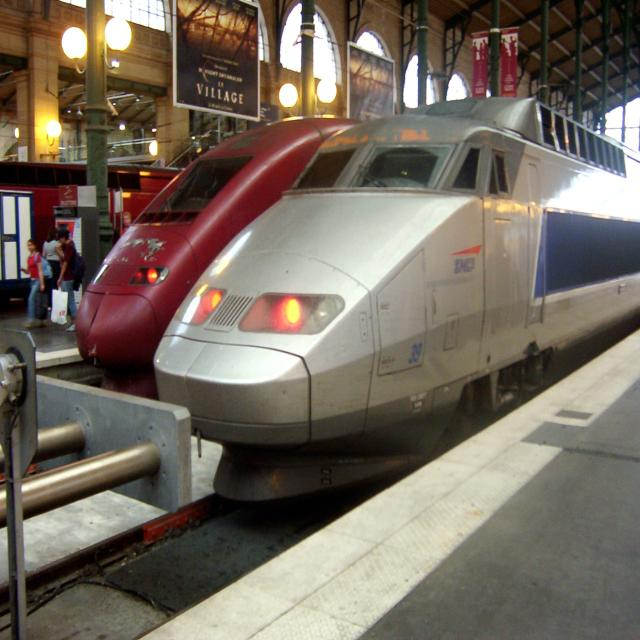body: (19, 238, 54, 330), (55, 228, 81, 331), (41, 226, 65, 312), (117, 211, 132, 237), (64, 227, 79, 252)
